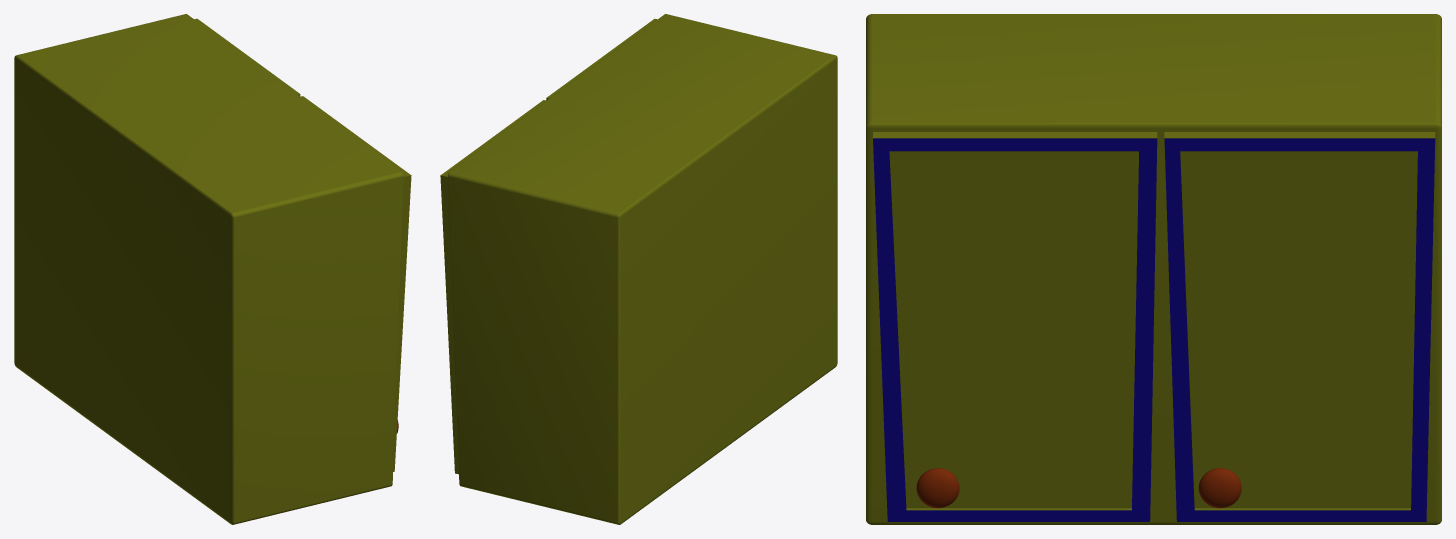
Rendered from BedsideTable.obj.
The picture shows the model from 3 angles, left to right: view 1: azimuth 30°, elevation 25°; view 2: azimuth 150°, elevation 25°; view 3: azimuth 270°, elevation 25°; orthographic projection. The views are drawn at different scales.
Parts seen in each view (by area): view 1: Cube, Cube.001; view 2: Cube, Cube.002; view 3: Cube.001, Cube.002, Cube, Cylinder.001, Cylinder.
Part boxes in pixels (x1,y1,x2,y2): Cube: (14, 14, 403, 524); Cube.001: (300, 96, 411, 471); Cube: (448, 14, 837, 524); Cube.002: (440, 100, 546, 474); Cube.001: (873, 132, 1157, 521); Cube.002: (1164, 132, 1435, 521); Cube: (866, 14, 1441, 524); Cylinder.001: (1198, 468, 1241, 508); Cylinder: (916, 468, 959, 508).
Size of the model in its own units: 2 by 3.14 by 4.
